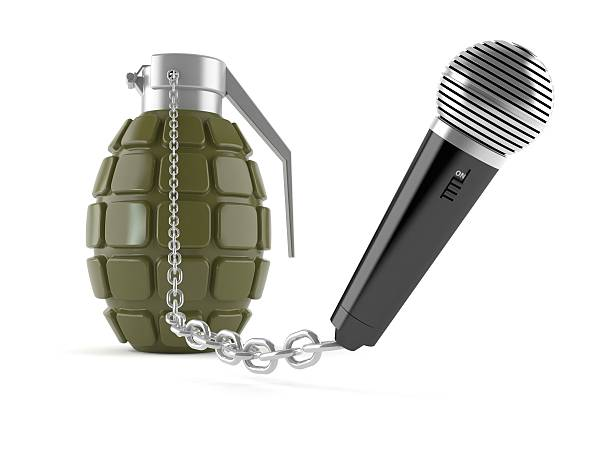e1: (84, 53, 296, 357)
